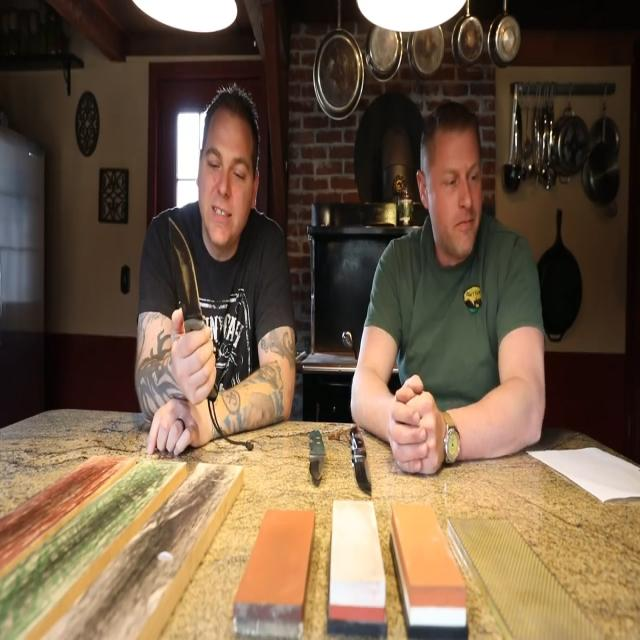knife: (168, 218, 207, 331), (349, 424, 378, 500), (307, 428, 329, 488)
